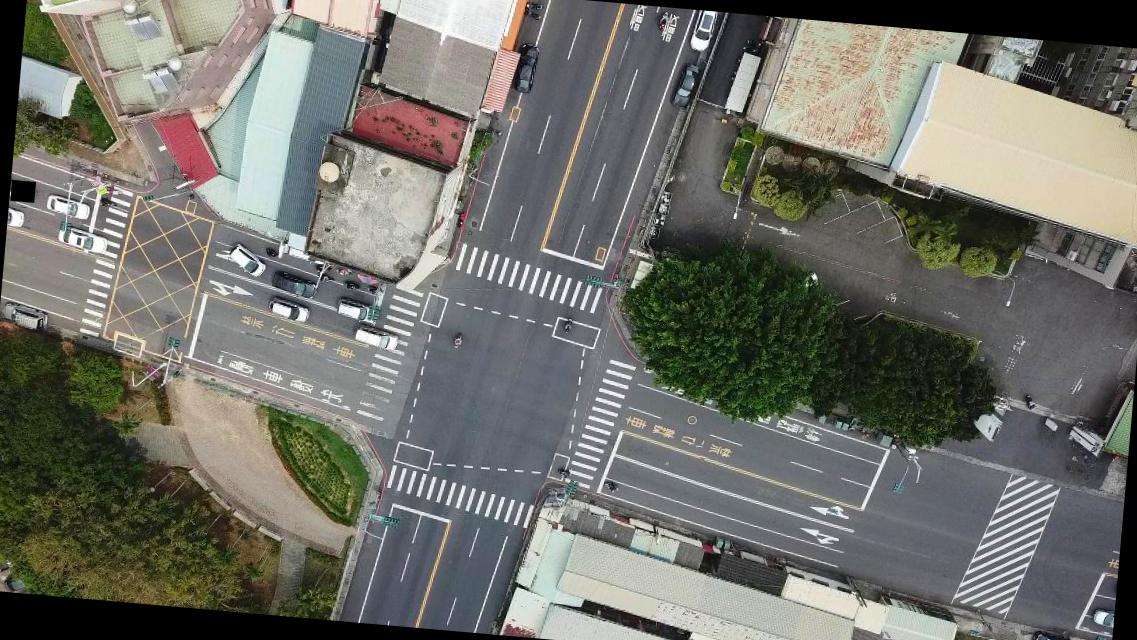vehicle: (0, 300, 52, 332), (54, 225, 108, 255), (511, 42, 540, 96), (669, 61, 699, 112), (350, 322, 398, 353), (269, 270, 318, 300), (686, 9, 718, 54), (228, 242, 266, 278), (43, 194, 91, 222), (265, 296, 310, 324), (334, 296, 378, 324), (1028, 628, 1076, 639), (6, 208, 24, 230)
